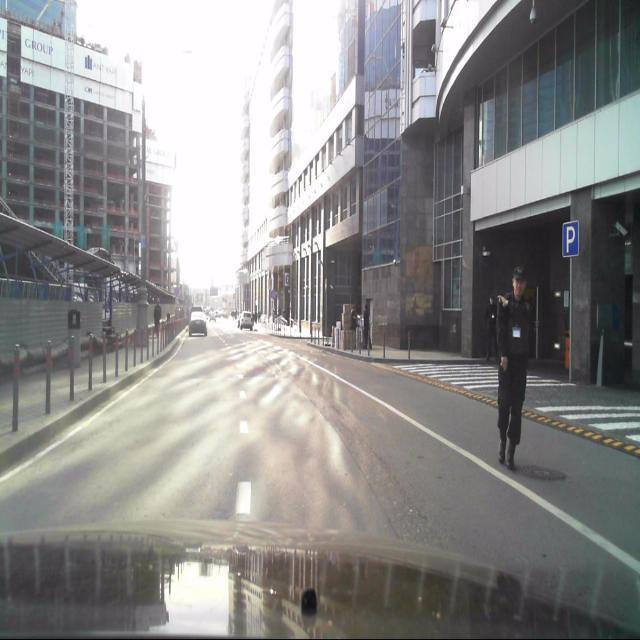road sign: (562, 222, 580, 256)
